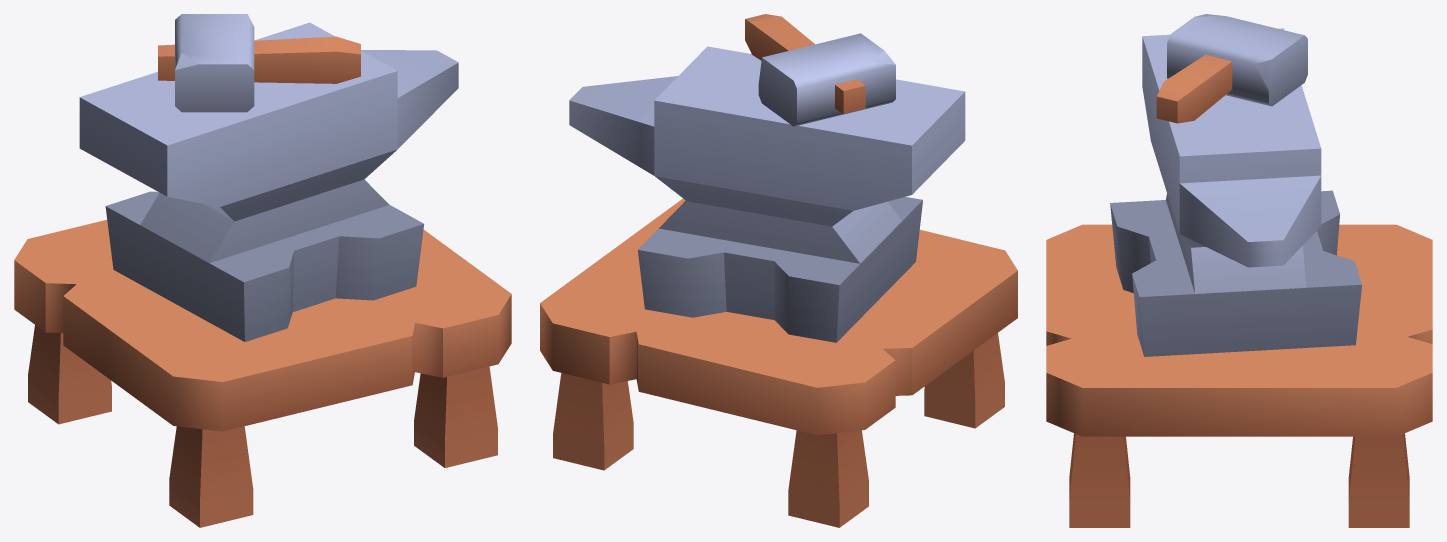
Rendered from enclume.glb.
3 views of the same model, side by side, from view 1: azimuth 30°, elevation 25°; view 2: azimuth 150°, elevation 25°; view 3: azimuth 270°, elevation 25° (orthographic). The views are drawn at different scales.
Visible parts, largest first — view 1: workbench-anvil; view 2: workbench-anvil; view 3: workbench-anvil.
Boxes of the visible parts, x1=… form: workbench-anvil: x1=14, y1=14, x2=511, y2=527; workbench-anvil: x1=540, y1=14, x2=1017, y2=527; workbench-anvil: x1=1046, y1=14, x2=1432, y2=527.
Bounding box in the file's own units: 1.4 × 1.46 × 1.28.
1 material, 1 textured.
